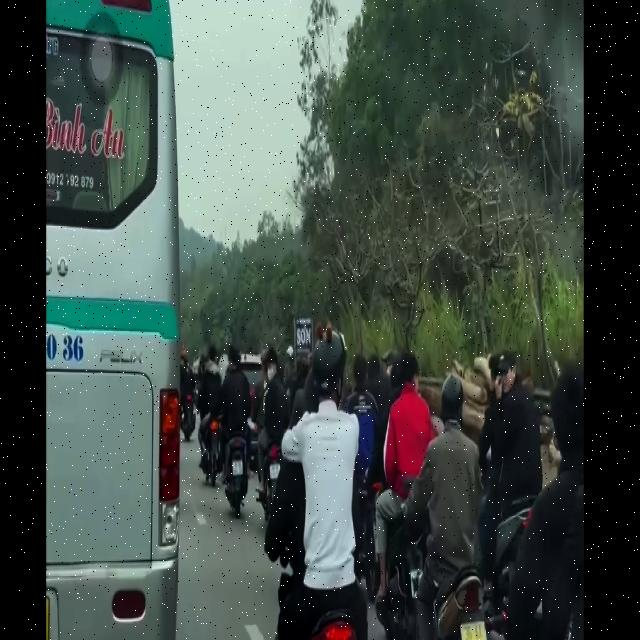helmet: (313, 328, 346, 426), (440, 366, 463, 448)
